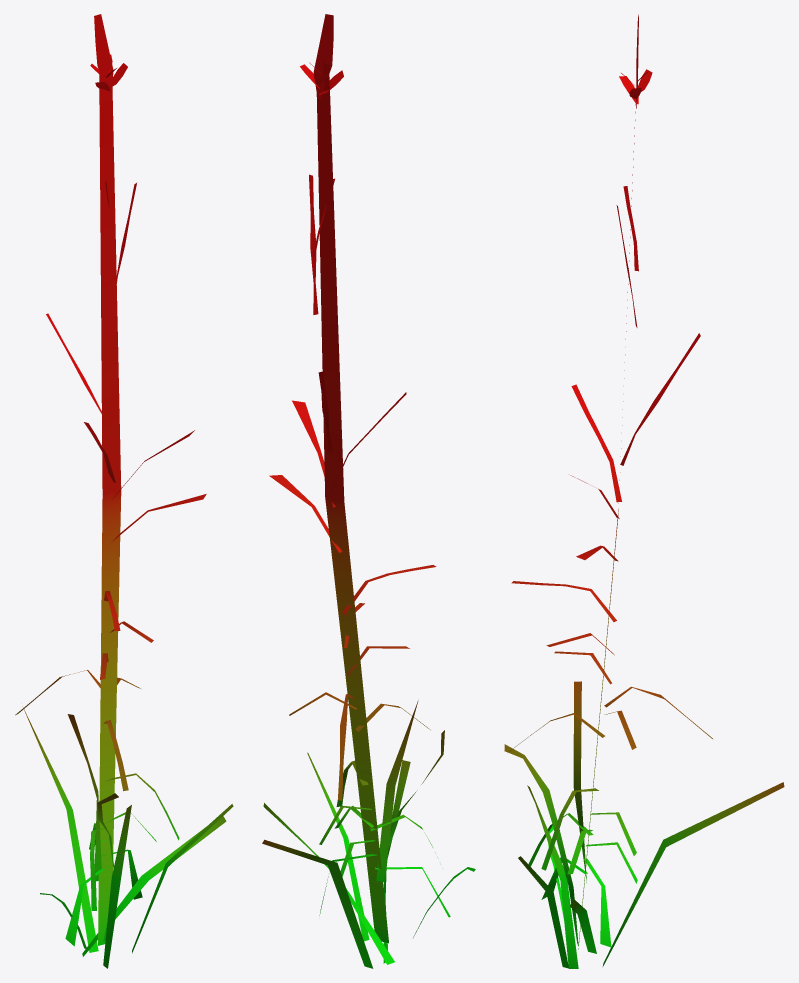
Rendered from Var5_LOD2.fbx.
The picture shows the model from 3 angles, left to right: view 1: azimuth 30°, elevation 25°; view 2: azimuth 150°, elevation 25°; view 3: azimuth 270°, elevation 25°; orthographic projection. The views are drawn at different scales.
Parts seen in each view (by area): view 1: _403f_Var5_LOD2; view 2: _403f_Var5_LOD2; view 3: _403f_Var5_LOD2.
Part boxes in pixels (x1,y1,x2,y2): _403f_Var5_LOD2: (15,14,233,968); _403f_Var5_LOD2: (262,14,475,968); _403f_Var5_LOD2: (504,14,784,968).
Size of the model in its own units: 23.42 by 106 by 27.9.
